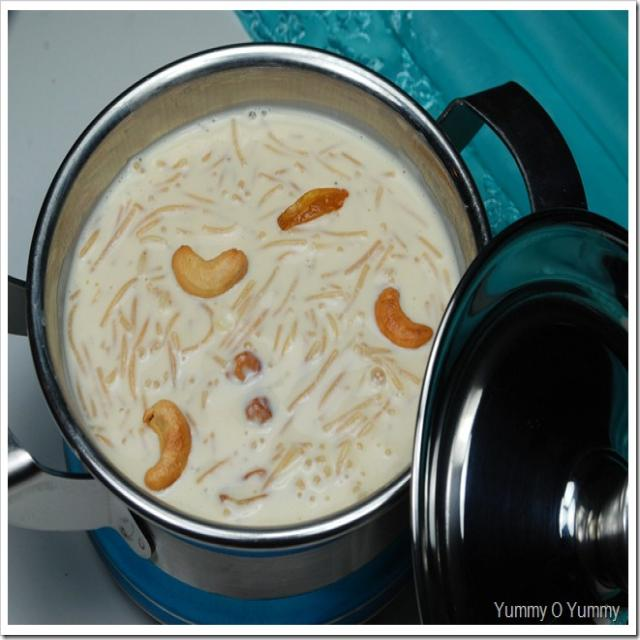shavige payasa: (46, 70, 472, 559)
